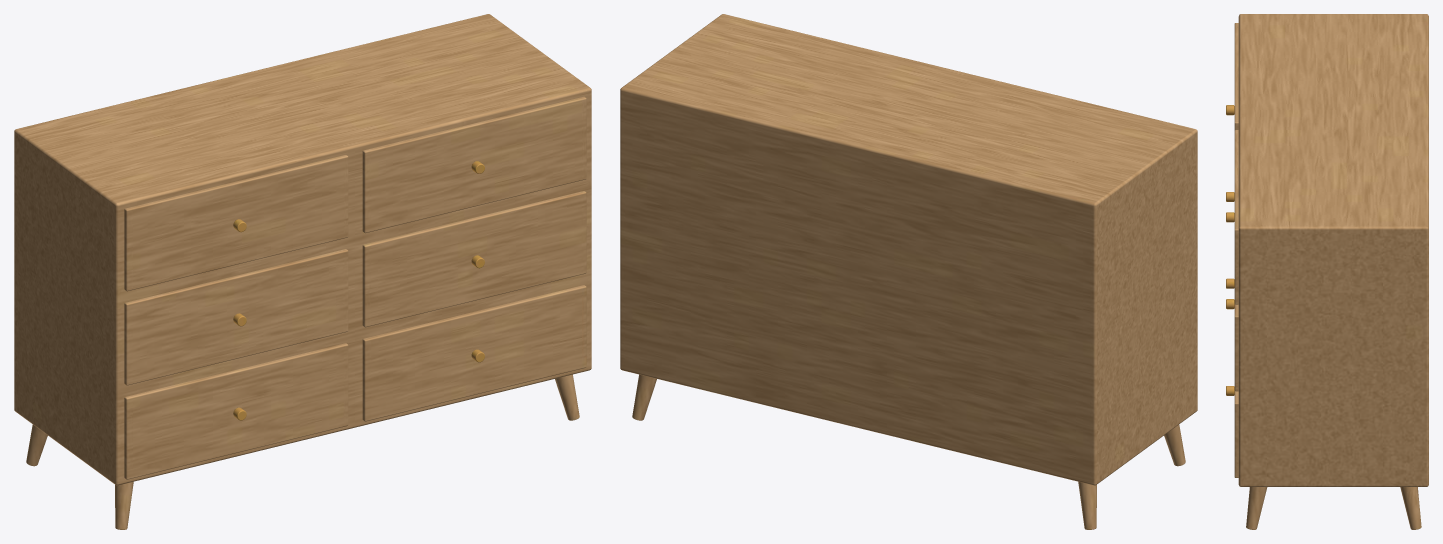
Rendered from dresser.glb.
3 views of the same model, side by side, from view 1: azimuth 30°, elevation 25°; view 2: azimuth 150°, elevation 25°; view 3: azimuth 270°, elevation 25° (orthographic). The views are drawn at different scales.
Visible parts, largest first — view 1: Cube; view 2: Cube; view 3: Cube.
Part boxes in pixels (box(x1,y1,x2,y2)): Cube: box(14, 14, 591, 529); Cube: box(620, 14, 1197, 529); Cube: box(1226, 14, 1428, 529).
Size of the model in its own units: 1.2 by 0.8026 by 0.48.
Materials: 1 (1 with a texture image).
